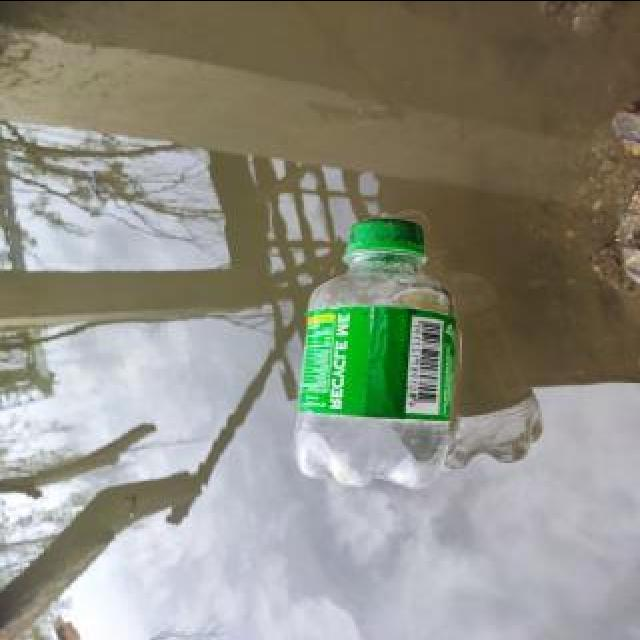Bottle: (286, 198, 464, 502)
